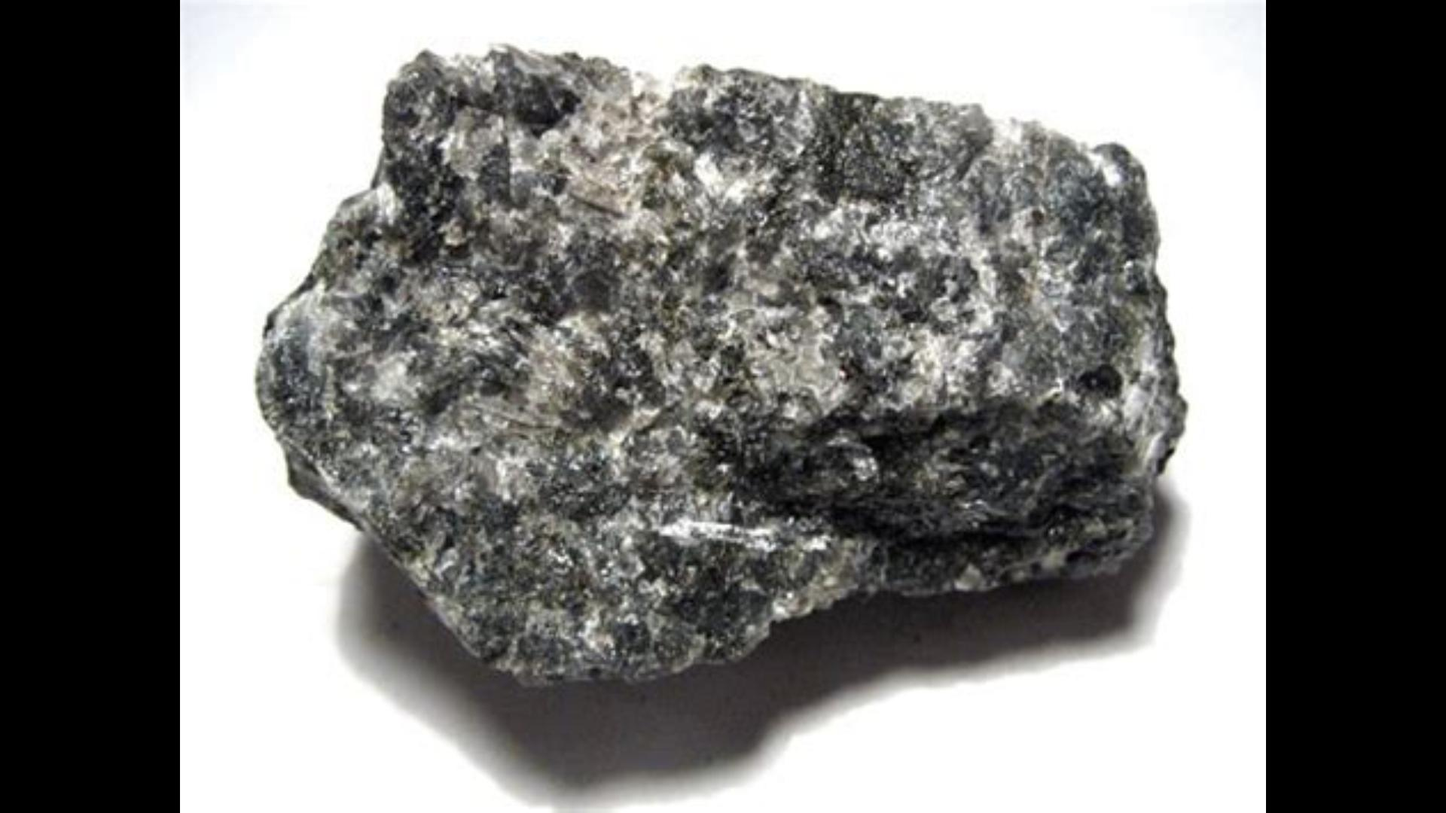rock: (258, 48, 1184, 678)
